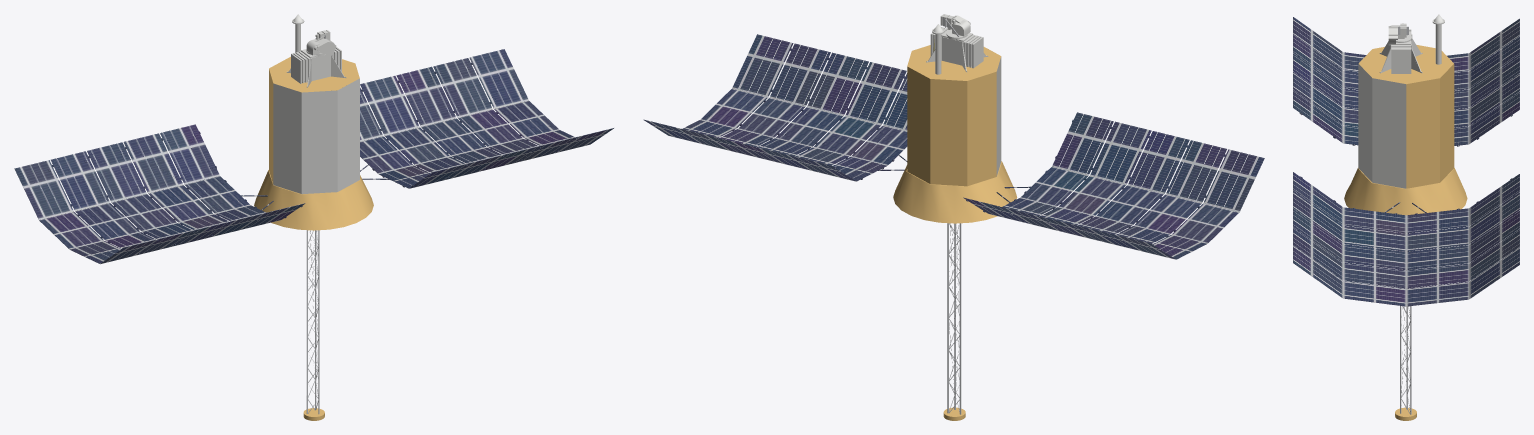
File: sac-c.glb
The picture shows the model from 3 angles, left to right: view 1: azimuth 30°, elevation 25°; view 2: azimuth 150°, elevation 25°; view 3: azimuth 270°, elevation 25°; orthographic projection. The views are drawn at different scales.
Parts seen in each view (by area): view 1: Fake; view 2: Fake; view 3: Fake.
Boxes of the visible parts, <box> form: Fake: <box>14,14,613,420</box>; Fake: <box>643,14,1264,420</box>; Fake: <box>1293,14,1519,420</box>.
Bounding box in the file's own units: 2.89 × 2.2 × 1.12.
Materials: 6 (1 with a texture image).
